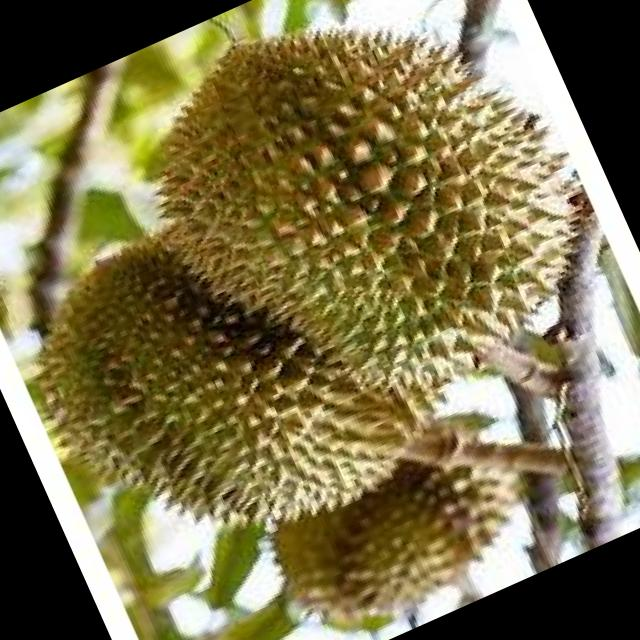fruit: (114, 0, 640, 457), (0, 175, 378, 609)
